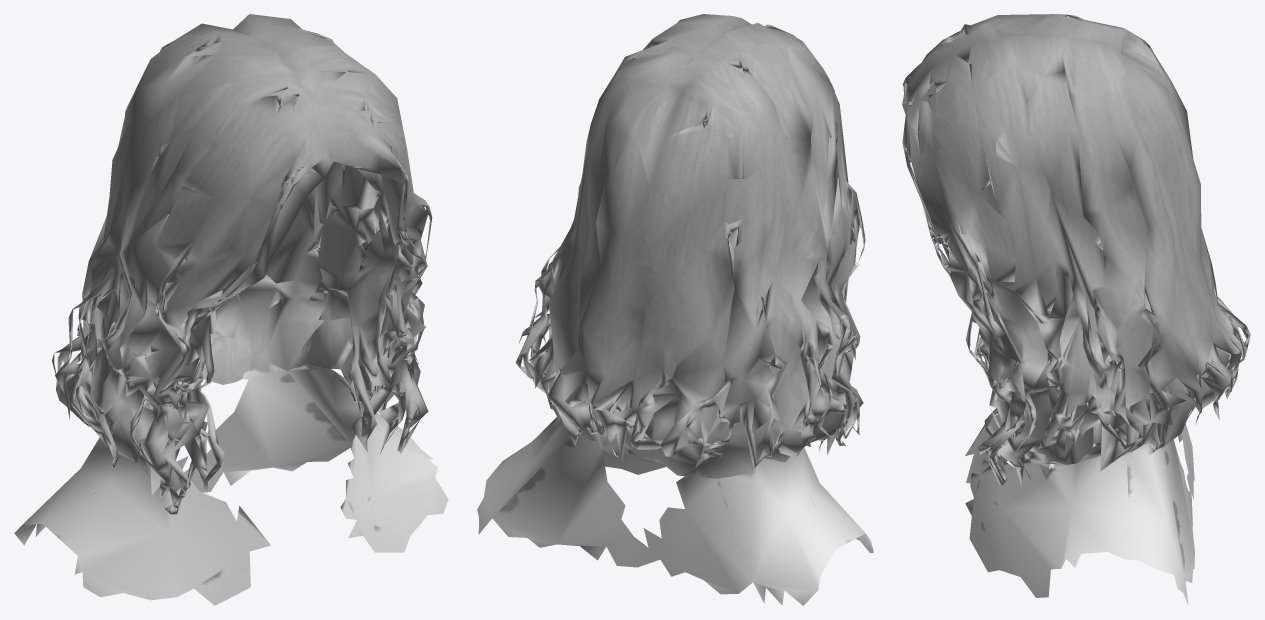
The model's file is hair_long.glb.
The picture shows the model from 3 angles, left to right: view 1: azimuth 30°, elevation 25°; view 2: azimuth 150°, elevation 25°; view 3: azimuth 270°, elevation 25°; orthographic projection. The views are drawn at different scales.
Visible parts, largest first — view 1: Hair; view 2: Hair; view 3: Hair.
Part boxes in pixels (<box>): Hair: <box>14,14,448,605</box>; Hair: <box>477,14,873,605</box>; Hair: <box>902,14,1250,604</box>.
Bounding box in the file's own units: 1.41 × 1.91 × 1.22.
Materials: 1 (1 with a texture image).
